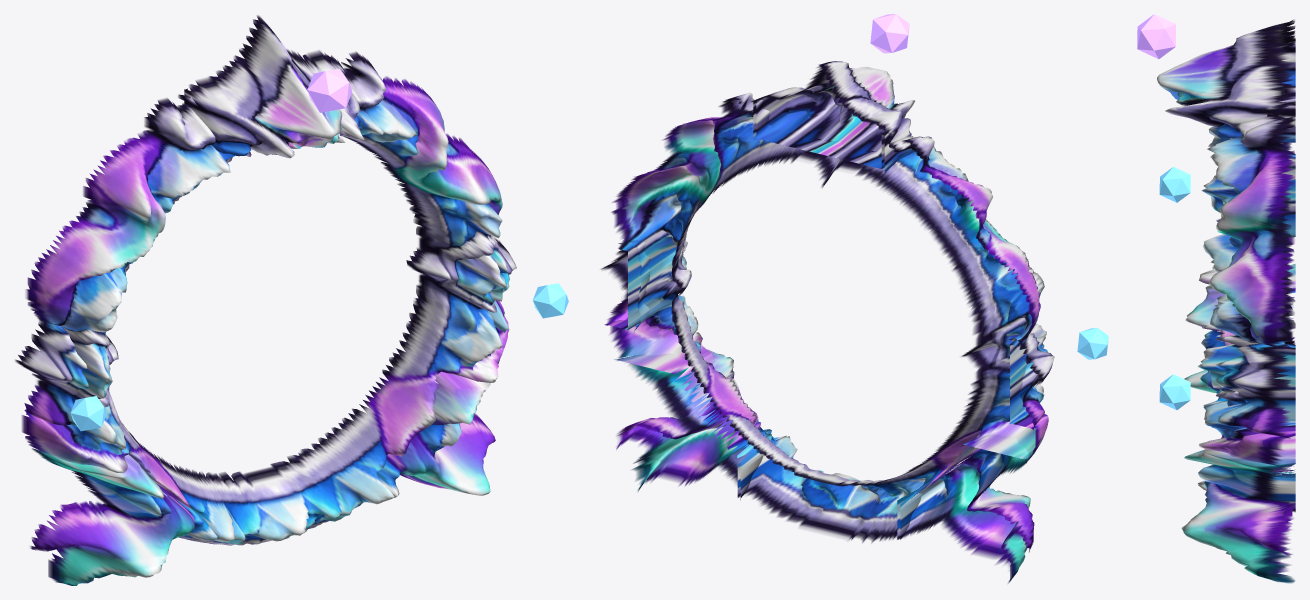
Rendered from epic_s3i-2.glb.
The picture shows the model from 3 angles, left to right: view 1: azimuth 30°, elevation 25°; view 2: azimuth 150°, elevation 25°; view 3: azimuth 270°, elevation 25°; orthographic projection. The views are drawn at different scales.
Parts seen in each view (by area): view 1: Ring, Star, RibbonL, RibbonR, HexL, SpinStar, HexR, SpinIceL, SpinIceR; view 2: Ring, RibbonR, RibbonL, Star, HexL, HexR, SpinStar, SpinIceL; view 3: Ring, RibbonR, Star, HexR, RibbonL, SpinStar, SpinIceL, SpinIceR.
Boxes of the visible parts, x1,y1,x2,y2 form: Ring: (22, 52, 509, 545); Star: (184, 15, 364, 158); RibbonL: (30, 448, 217, 585); RibbonR: (376, 371, 495, 498); HexL: (15, 319, 88, 427); SpinStar: (307, 69, 352, 112); HexR: (487, 235, 516, 332); SpinIceL: (70, 396, 106, 431); SpinIceR: (533, 283, 568, 318); Ring: (604, 92, 1048, 543); RibbonR: (614, 343, 786, 499); RibbonL: (897, 434, 1034, 583); Star: (753, 61, 914, 172); HexL: (1009, 333, 1054, 430); HexR: (600, 240, 650, 331); SpinStar: (870, 14, 909, 53); SpinIceL: (1077, 328, 1108, 359); Ring: (1197, 31, 1295, 511); RibbonR: (1181, 435, 1295, 583); Star: (1157, 19, 1295, 142); HexR: (1214, 340, 1291, 438); RibbonL: (1184, 264, 1295, 406); SpinStar: (1137, 14, 1175, 59); SpinIceL: (1159, 166, 1190, 202); SpinIceR: (1159, 374, 1190, 410).
Size of the model in its own units: 1.14 by 1.14 by 0.3419.
Materials: 3 (1 with a texture image).
